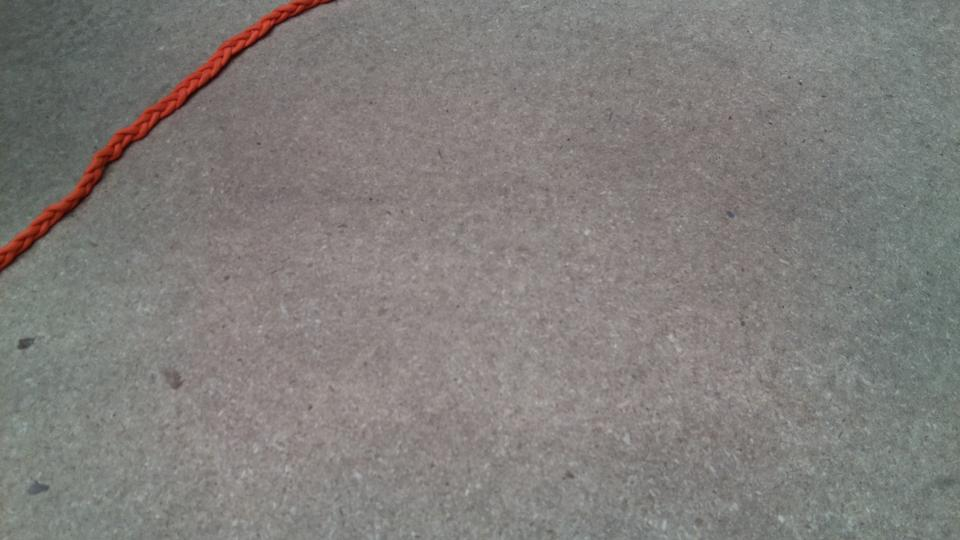rope: (1, 1, 306, 254)
